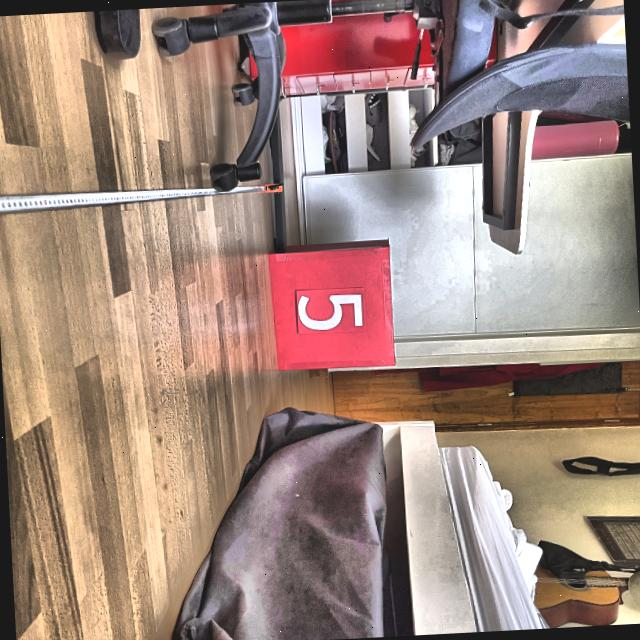five: (296, 290, 364, 333)
red box: (268, 238, 397, 373)
